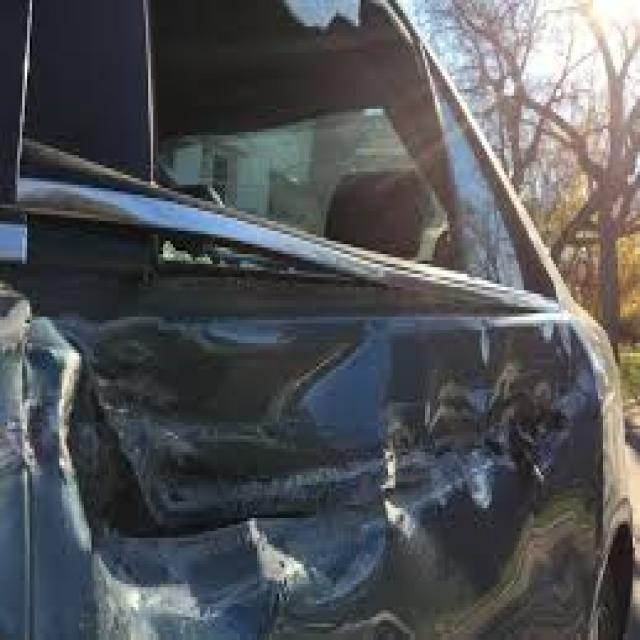damaged-window: (136, 0, 487, 301)
